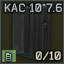KAC 7.62x51 10-round steel magazine: (0, 0, 64, 64)
